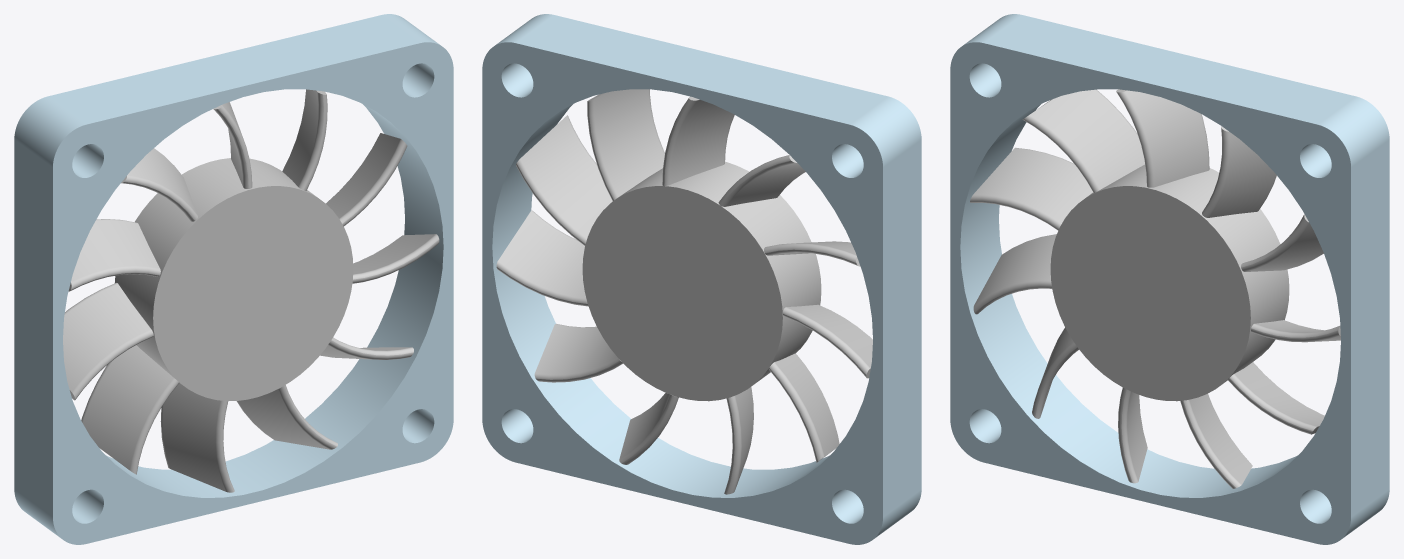
Rendered from fan.glb.
3 renders of one model, left to right at view 1: azimuth 30°, elevation 25°; view 2: azimuth 150°, elevation 25°; view 3: azimuth 330°, elevation 25°, orthographic.
Parts seen in each view (by area): view 1: fan_hub, mesh81, mesh80, mesh84, mesh83, mesh87, mesh93, mesh94, mesh91, mesh92, mesh88, mesh90; view 2: fan_hub, mesh82, mesh80, mesh84, mesh83, mesh87, mesh93, mesh94, mesh91, mesh92, mesh88, mesh90; view 3: fan_hub, mesh81, mesh80, mesh86, mesh83, mesh90, mesh92, mesh91, mesh94, mesh93, mesh89, mesh87.
Boxes of the visible parts, <box> form: fan_hub: <box>63,89,439,492</box>; mesh81: <box>53,42,453,544</box>; mesh80: <box>106,104,443,497</box>; mesh84: <box>14,140,52,516</box>; mesh83: <box>48,15,419,124</box>; mesh87: <box>14,96,85,167</box>; mesh93: <box>402,409,434,443</box>; mesh94: <box>402,63,434,97</box>; mesh91: <box>72,144,103,177</box>; mesh92: <box>72,489,103,523</box>; mesh88: <box>14,489,60,537</box>; mesh90: <box>382,14,440,45</box>; fan_hub: <box>496,89,872,494</box>; mesh82: <box>482,42,882,544</box>; mesh80: <box>492,104,829,497</box>; mesh84: <box>883,140,921,516</box>; mesh83: <box>516,15,887,124</box>; mesh87: <box>850,96,921,167</box>; mesh93: <box>501,409,533,443</box>; mesh94: <box>501,63,533,97</box>; mesh91: <box>832,144,863,177</box>; mesh92: <box>832,489,863,523</box>; mesh88: <box>875,489,921,537</box>; mesh90: <box>495,14,553,45</box>; fan_hub: <box>970,89,1340,488</box>; mesh81: <box>950,42,1350,544</box>; mesh80: <box>960,104,1297,497</box>; mesh86: <box>1351,140,1389,516</box>; mesh83: <box>984,15,1355,124</box>; mesh90: <box>1318,96,1389,167</box>; mesh92: <box>969,409,1001,443</box>; mesh91: <box>969,63,1001,97</box>; mesh94: <box>1300,144,1331,177</box>; mesh93: <box>1300,489,1331,523</box>; mesh89: <box>1343,489,1389,537</box>; mesh87: <box>963,14,1021,45</box>.
Size of the model in its own units: 0.06 by 0.06 by 0.01.
